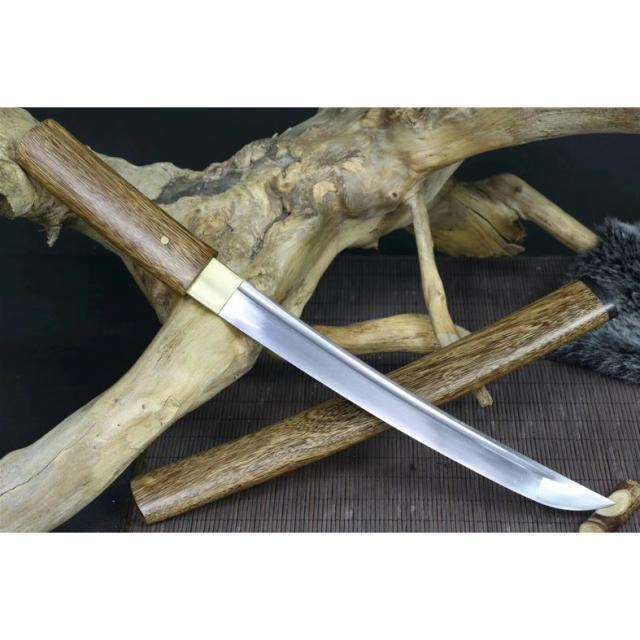short sword: (11, 108, 628, 520)
